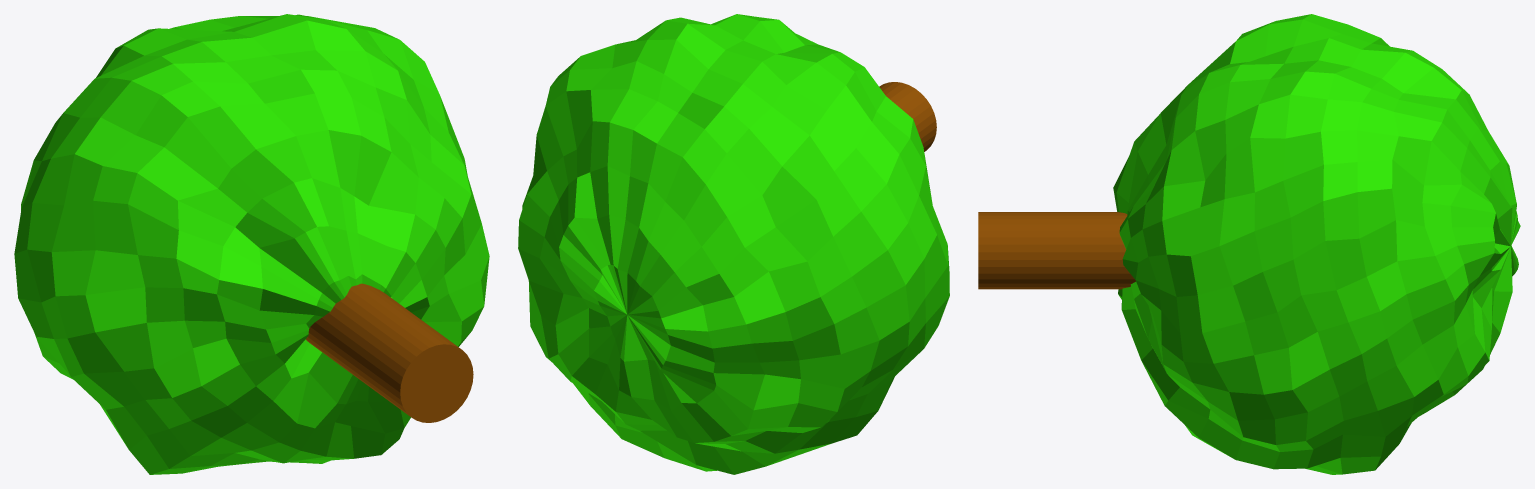
The model's file is tree_type2.fbx.
3 views of the same model, side by side, from view 1: azimuth 30°, elevation 25°; view 2: azimuth 150°, elevation 25°; view 3: azimuth 270°, elevation 25° (orthographic). The views are drawn at different scales.
Parts seen in each view (by area): view 1: Sphere, Cylinder.001; view 2: Sphere, Cylinder.001; view 3: Sphere, Cylinder.001.
Boxes of the visible parts, box(x1,y1,x2,y2) form: Sphere: box(14, 14, 489, 474); Cylinder.001: box(305, 283, 473, 422); Sphere: box(518, 14, 949, 474); Cylinder.001: box(879, 82, 936, 151); Sphere: box(1113, 14, 1520, 474); Cylinder.001: box(978, 212, 1135, 289).
Bounding box in the file's own units: 1121 × 1158 × 1402.
